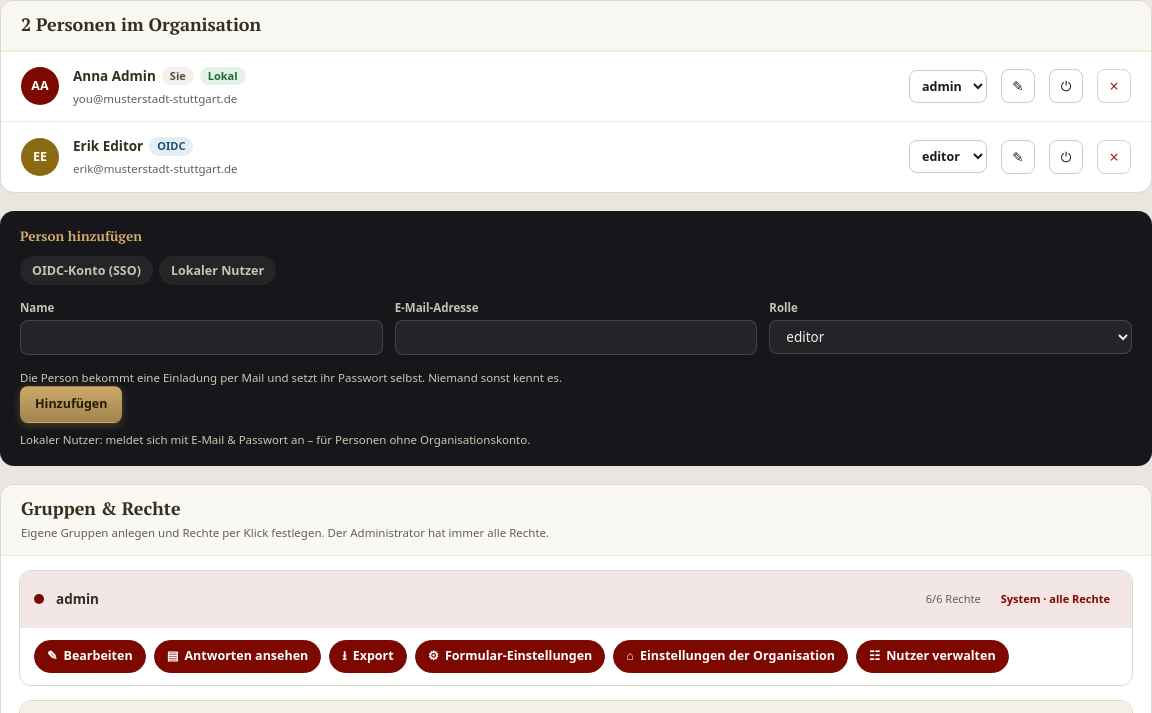
Scenario: Nutzerrechte (Tenant-Ebene) › takes „Abbrechen" as an answer
The width and height of the screenshot is (1152, 713).
Expected: the text "Erik Editor" is shown, [73,136,143,156]
Step 1. Click the button named "Erik Editor entfernen" → (1114, 157), box [1097,140,1131,174]
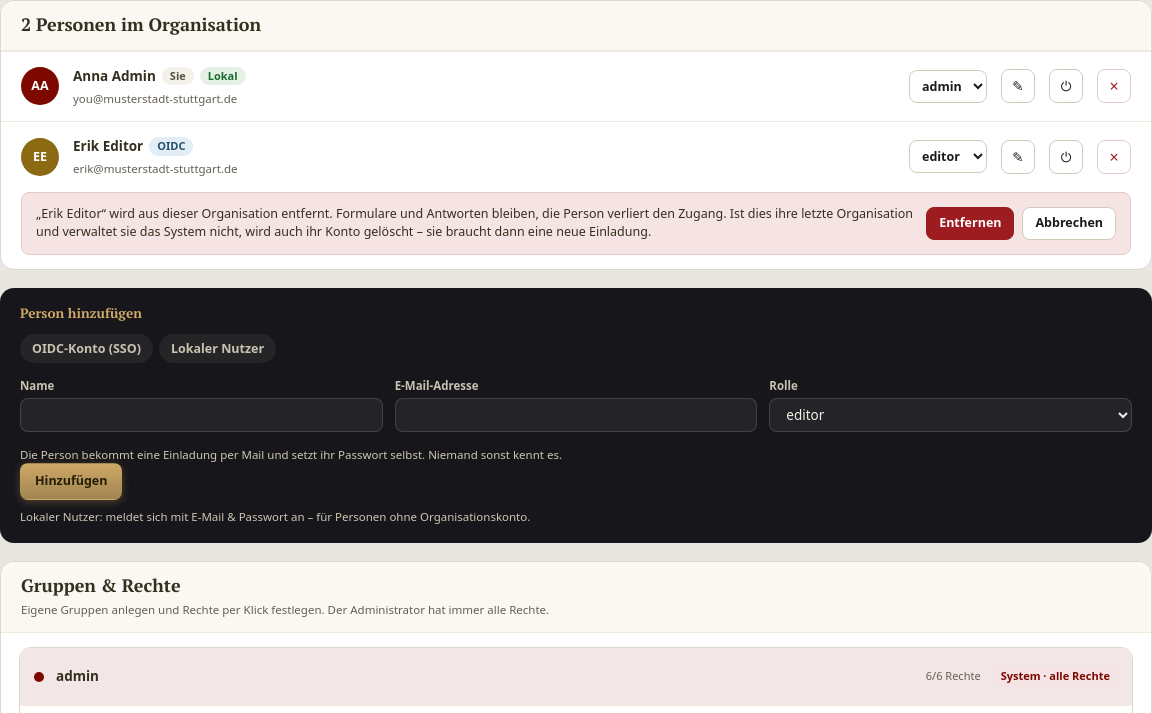
Step 2. Click the button "Abbrechen" → (1069, 224), box [1022,207,1116,240]
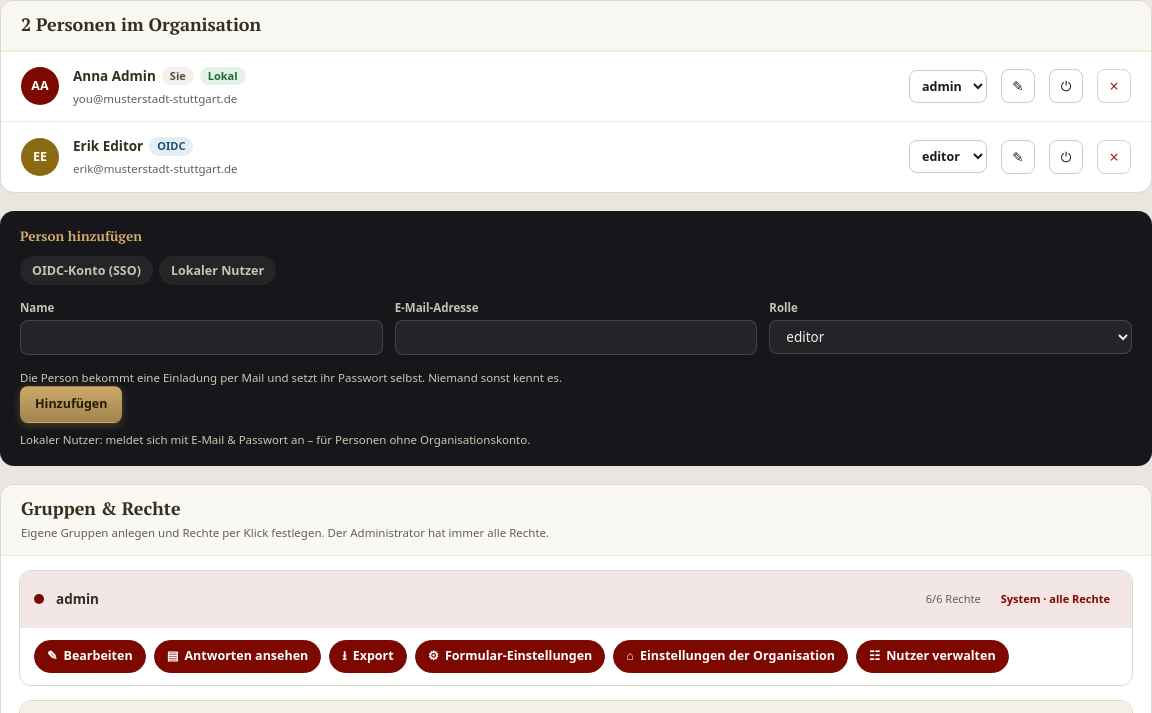
Expected: the button "Entfernen" is gone
